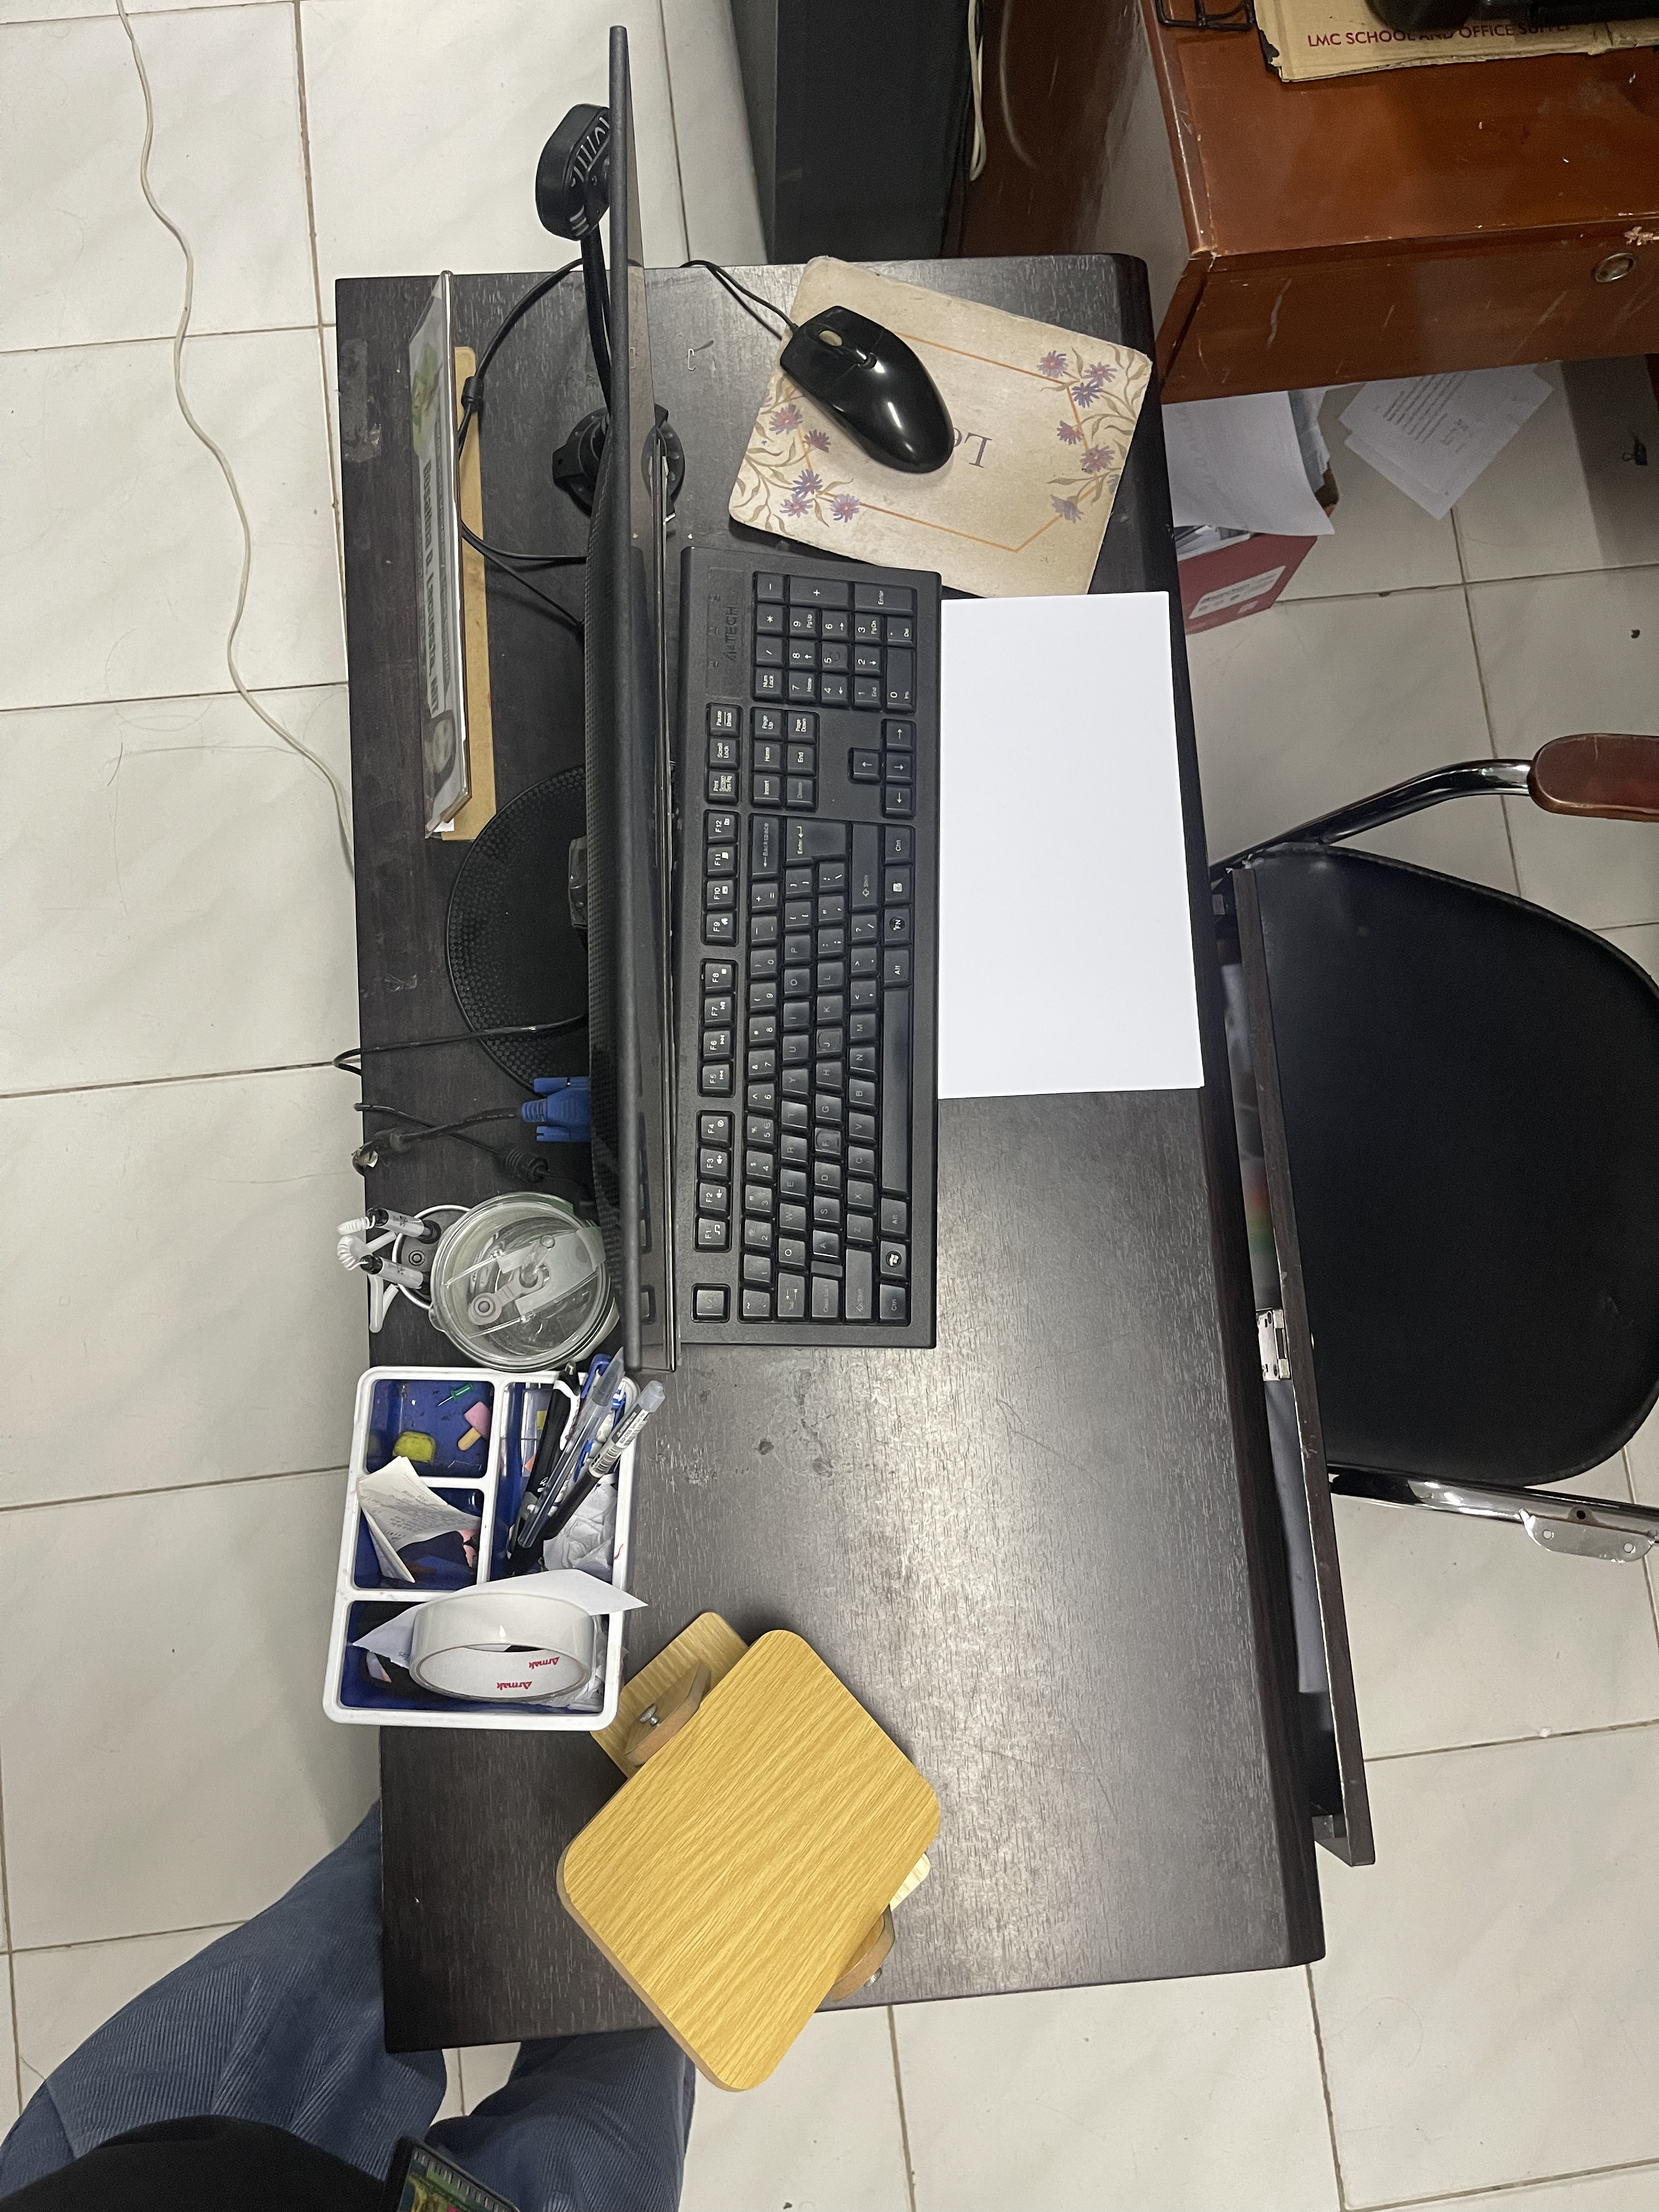table1: (314, 260, 1391, 2038)
